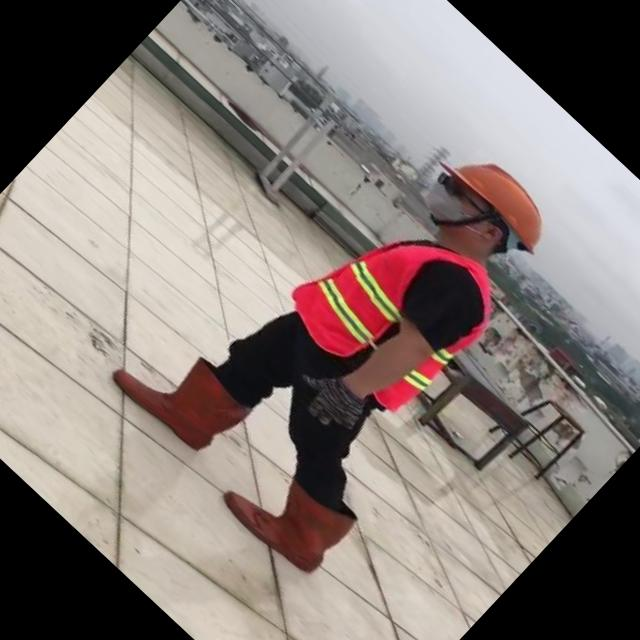hard_hat: (444, 140, 568, 261)
safety_vest: (277, 187, 513, 423)
vehicle: (84, 52, 622, 596)
work_boots: (106, 318, 253, 462), (219, 444, 360, 584)
